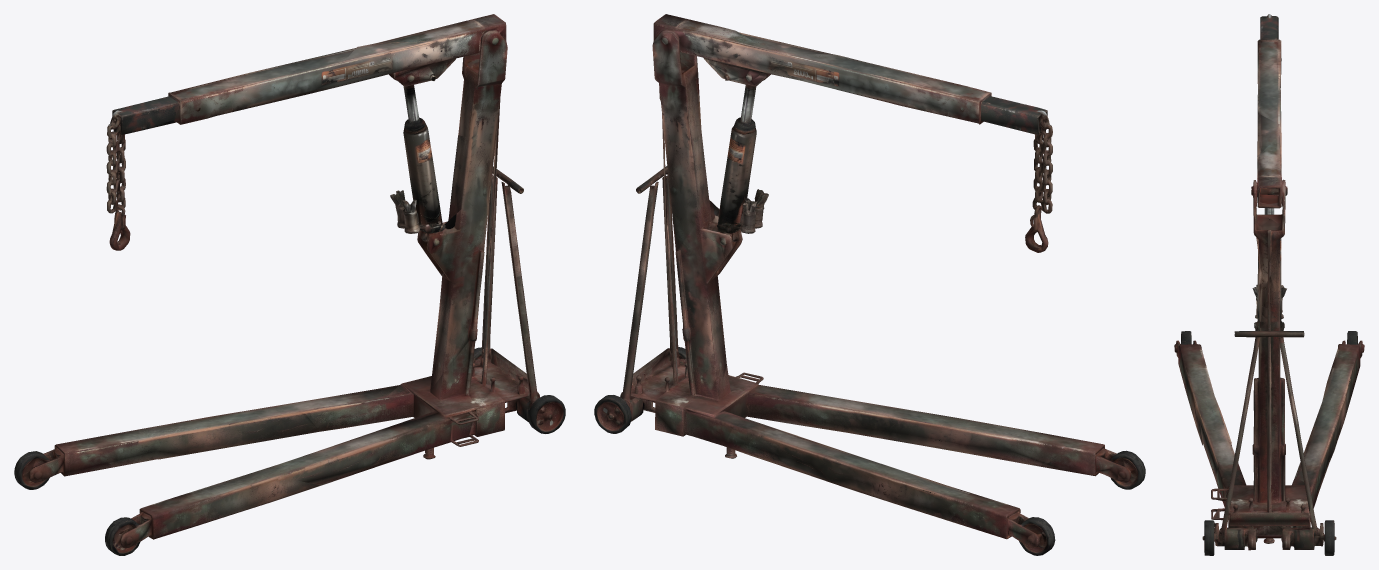
Rendered from oficina_jimmy_peca_2.glb.
The picture shows the model from 3 angles, left to right: view 1: azimuth 30°, elevation 25°; view 2: azimuth 150°, elevation 25°; view 3: azimuth 270°, elevation 25°; orthographic projection. The views are drawn at different scales.
Parts seen in each view (by area): view 1: Mesh1.0; view 2: Mesh1.0; view 3: Mesh1.0.
Boxes of the visible parts, box(x1,y1,x2,y2) form: Mesh1.0: box(14, 14, 565, 555); Mesh1.0: box(594, 14, 1145, 555); Mesh1.0: box(1174, 14, 1364, 555).
Size of the model in its own units: 1.9 by 1.63 by 0.7255.
Materials: 1 (1 with a texture image).
